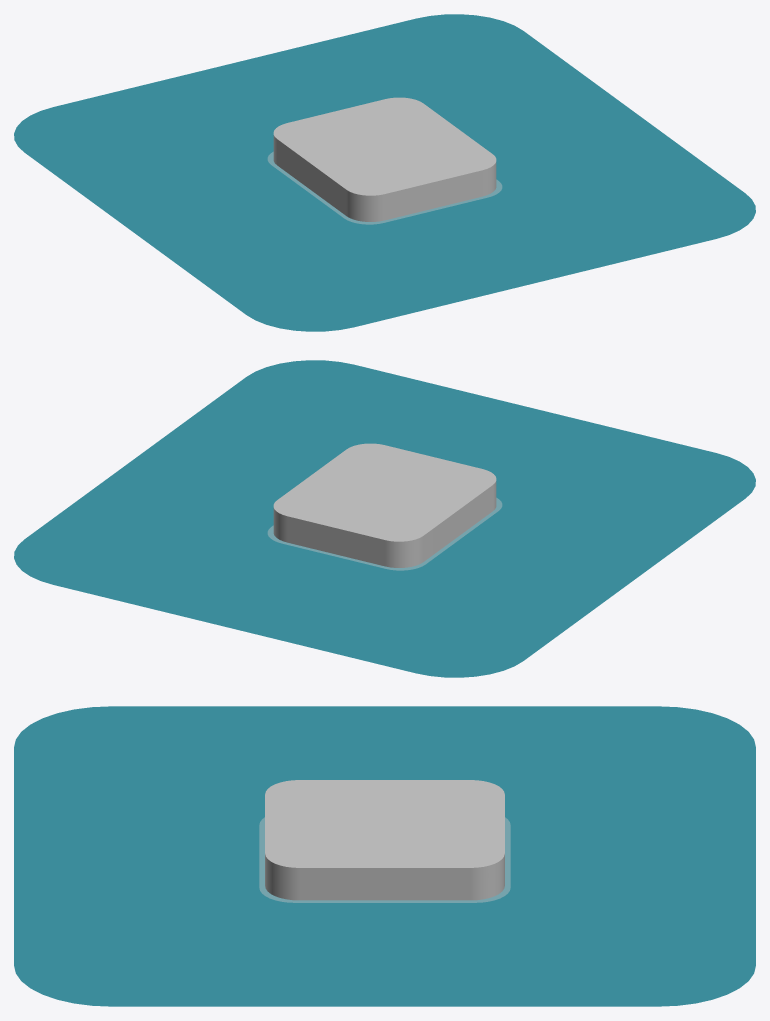
File: level3_env.fbx
3 views of the same model, one above another, from view 1: azimuth 30°, elevation 25°; view 2: azimuth 150°, elevation 25°; view 3: azimuth 270°, elevation 25° (orthographic). The views are drawn at different scales.
Visible parts, largest first — view 1: level3_env; view 2: level3_env; view 3: level3_env.
Part boxes in pixels (x1,y1,x2,y2): level3_env: (14,14,755,331); level3_env: (14,360,755,677); level3_env: (14,706,755,1006).
Size of the model in its own units: 62.81 by 3.46 by 65.61.
